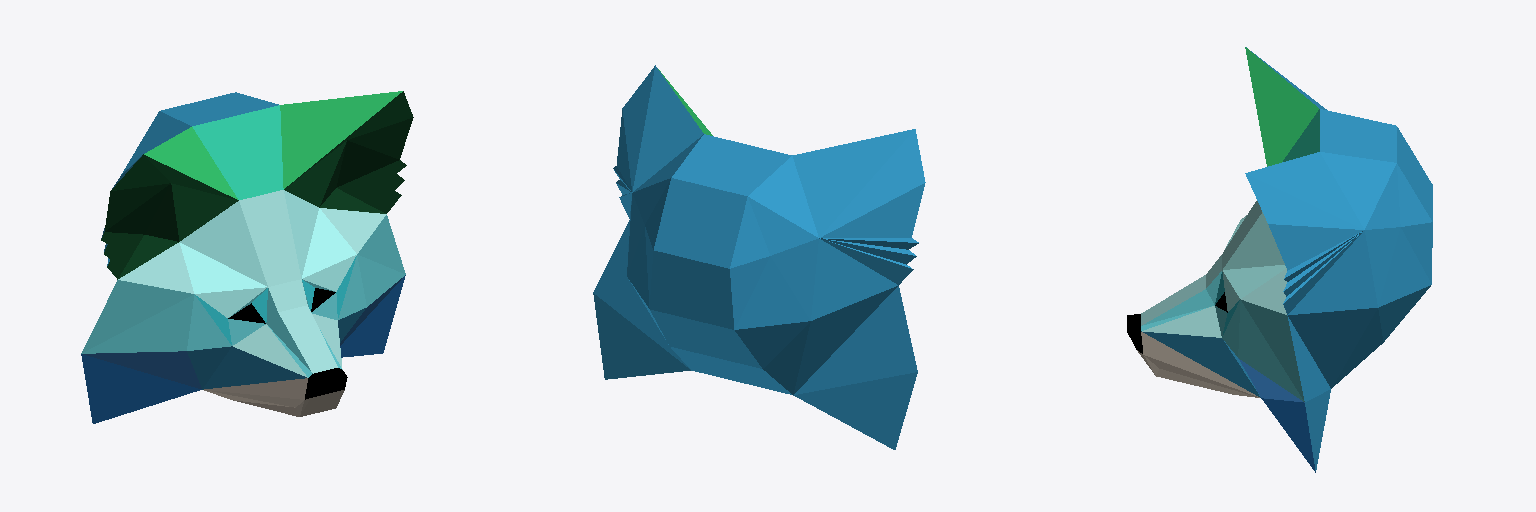
Rendered from beta-fox.obj.
The picture shows the model from 3 angles: view 1: azimuth 30°, elevation 25°; view 2: azimuth 150°, elevation 25°; view 3: azimuth 270°, elevation 25°; orthographic projection.
Visible parts, largest first — view 1: Default_2; view 2: Default_2; view 3: Default_2.
Part boxes in pixels (x1,y1,x2,y2): Default_2: (81, 91, 413, 423); Default_2: (593, 65, 925, 449); Default_2: (1127, 47, 1432, 472).
Size of the model in its own units: 244 by 210 by 199.